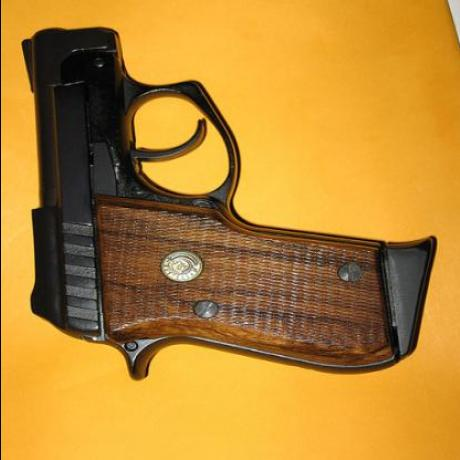weapon: (14, 23, 444, 396)
